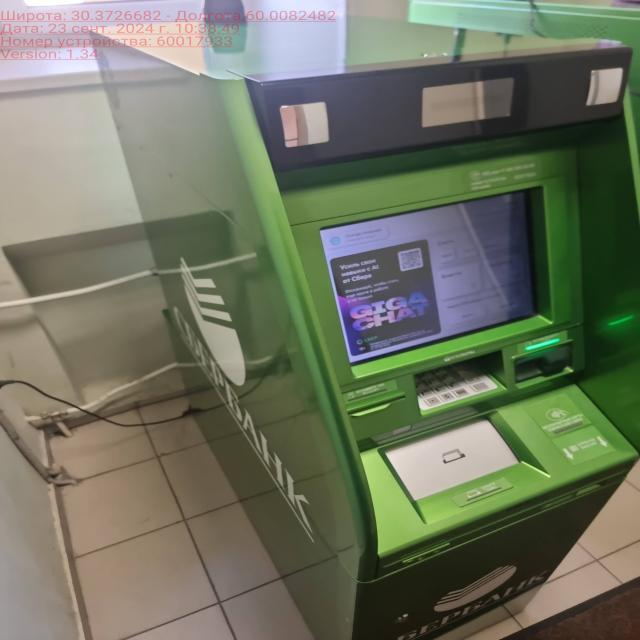bank: (98, 22, 640, 640)
